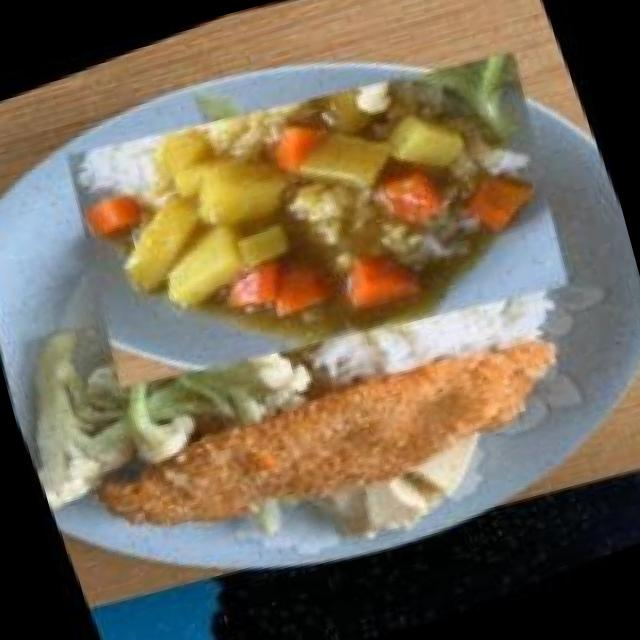curry: (19, 0, 611, 459)
fried_chicken: (53, 263, 610, 617)
rice: (294, 203, 594, 427)
